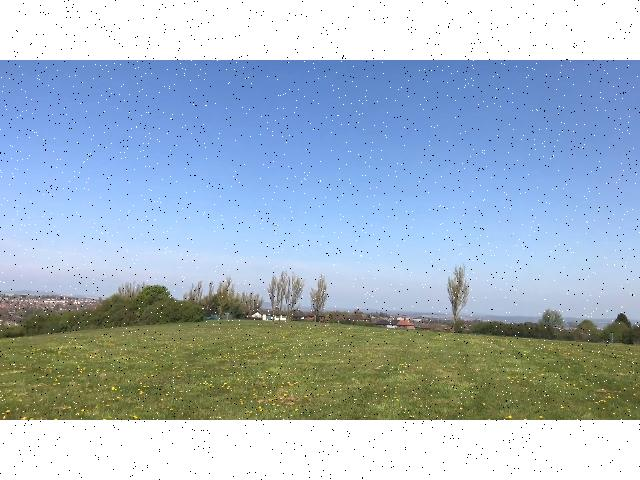Anti-Drone: (261, 213, 293, 235)
